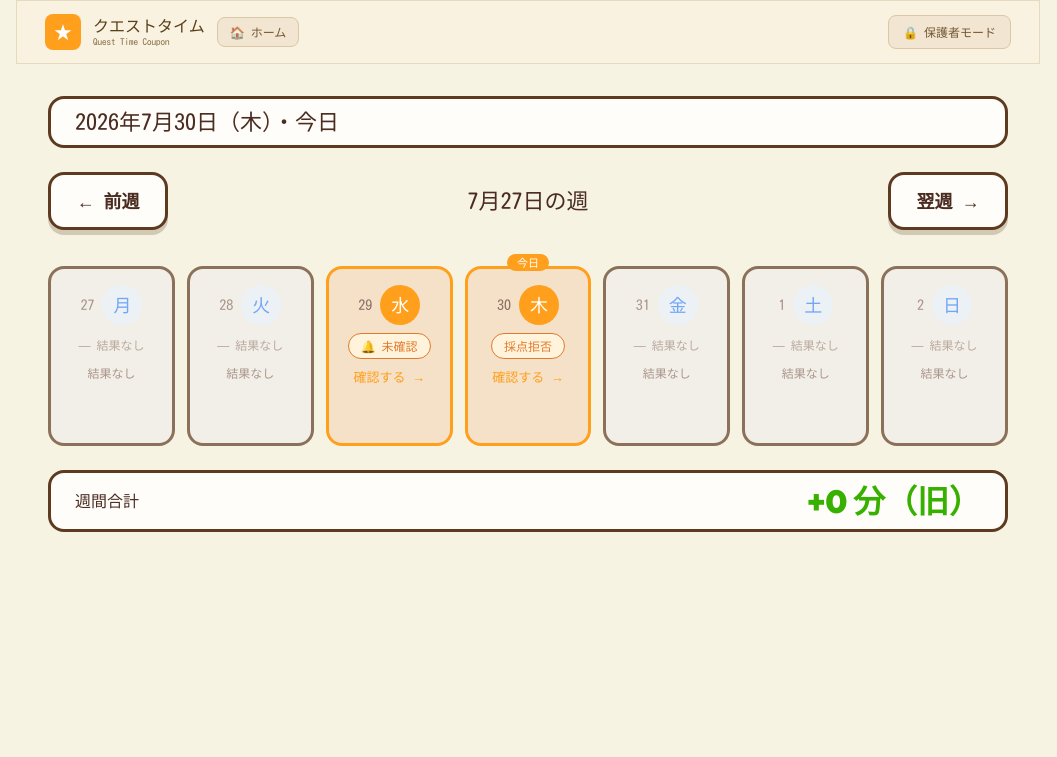
Scenario: ResultsPage week UI (#17) › 未確認が複数ある場合は確認済み分だけ件数を減らす
This screenshot has width=1057, height=757.
Click the button with test id "results-day-2026-07-29": point(389, 356) top-left (326, 266), bottom-right (453, 446)
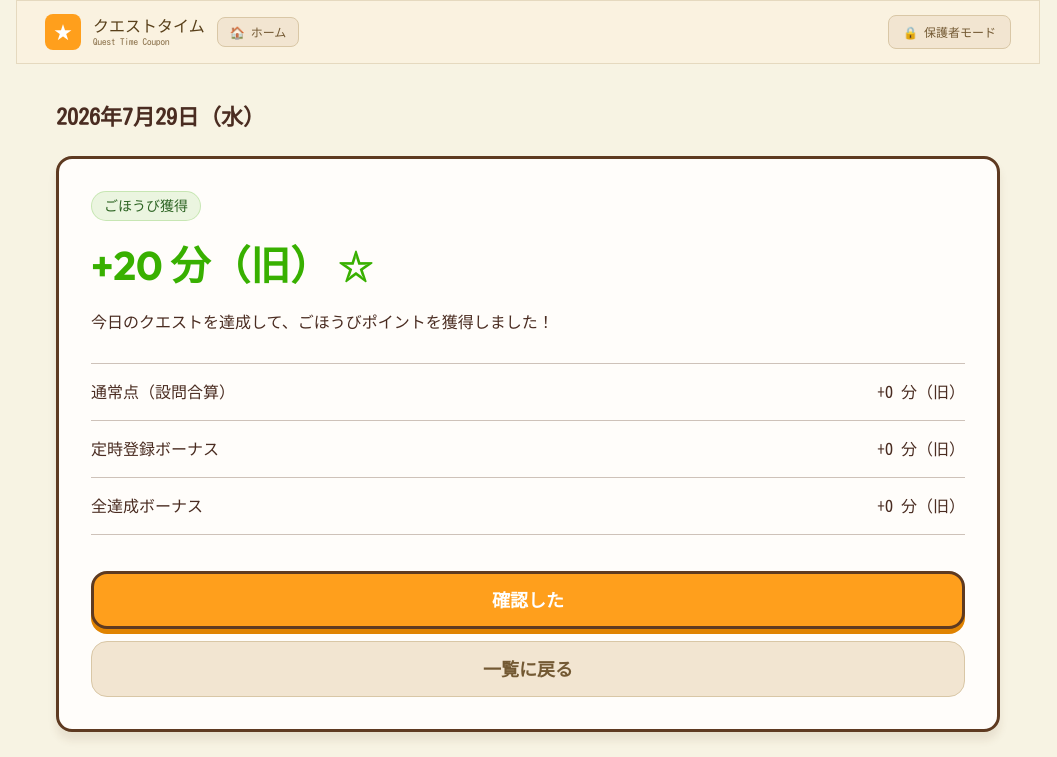
Click the button with test id "results-ack-button": point(528, 600) top-left (91, 570), bottom-right (965, 628)
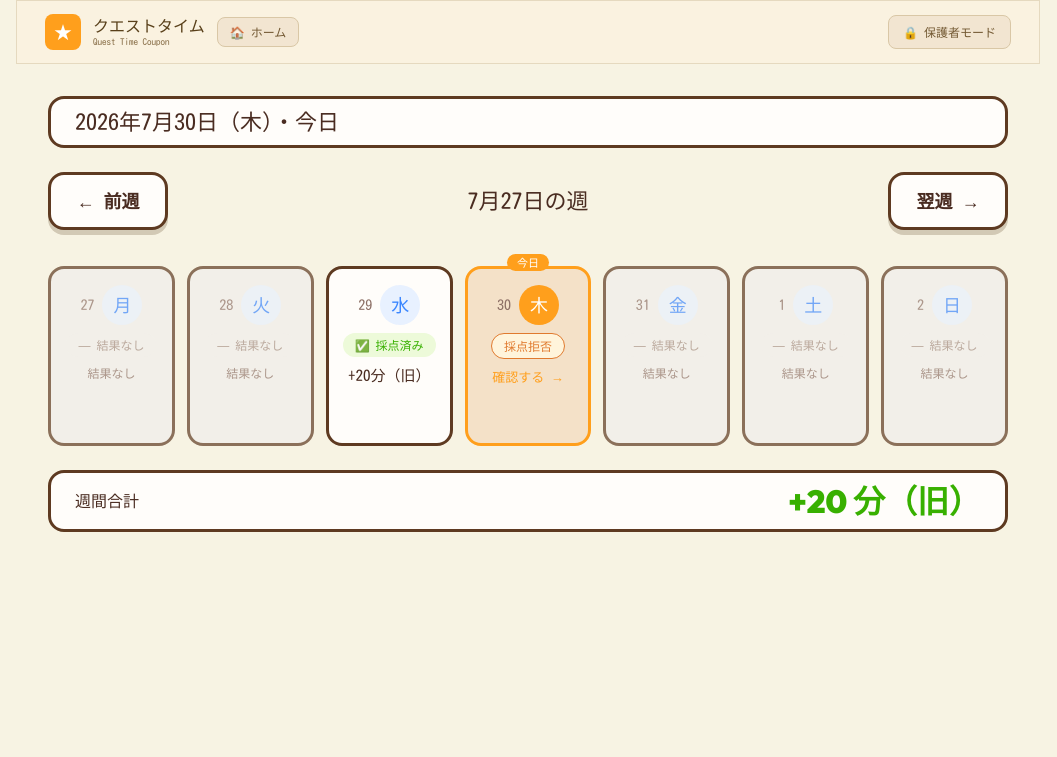
Now the element with test id "results-week-list" is shown, box top-left (48, 88), bottom-right (1008, 532)
